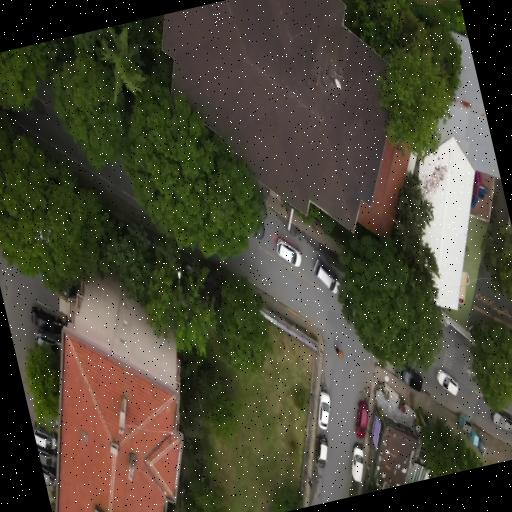car: (31, 307, 63, 334), (314, 258, 339, 292), (276, 237, 301, 265), (399, 365, 423, 390), (33, 425, 57, 448), (436, 369, 458, 394), (355, 400, 368, 437), (36, 329, 61, 348), (318, 390, 330, 428), (351, 444, 363, 481), (37, 445, 57, 467), (316, 436, 328, 467), (492, 411, 511, 430), (41, 464, 56, 485), (253, 222, 264, 238)
person: (334, 345, 343, 358)
